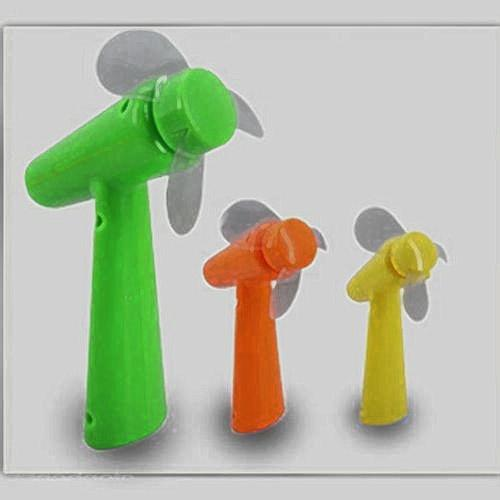fan: (30, 70, 227, 439), (197, 198, 335, 439), (329, 214, 449, 440)
